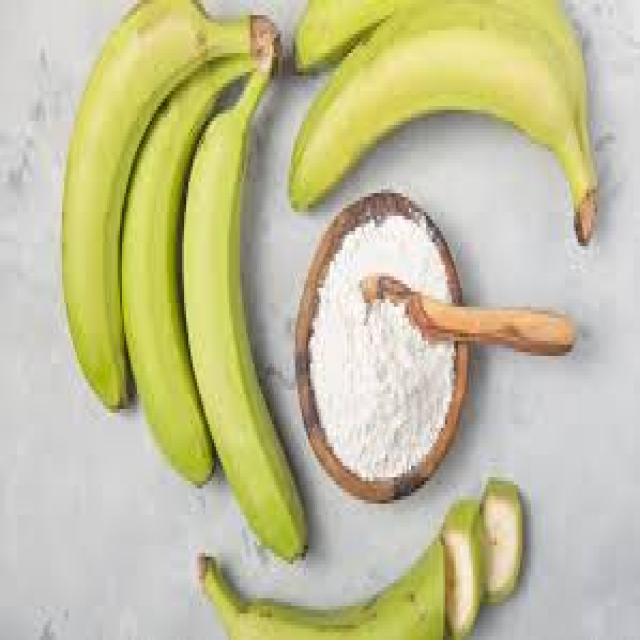Banana: (60, 2, 311, 566), (288, 0, 600, 248), (197, 536, 447, 640)
